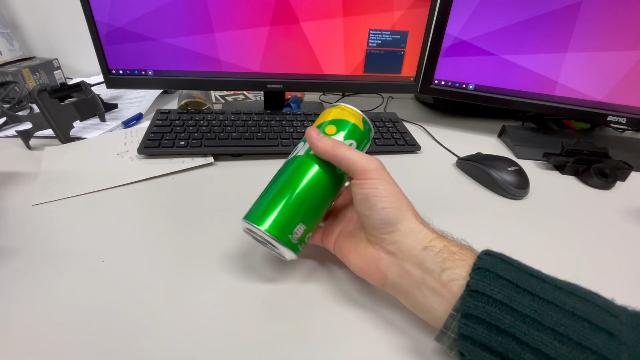Sprite: (238, 99, 376, 266)
